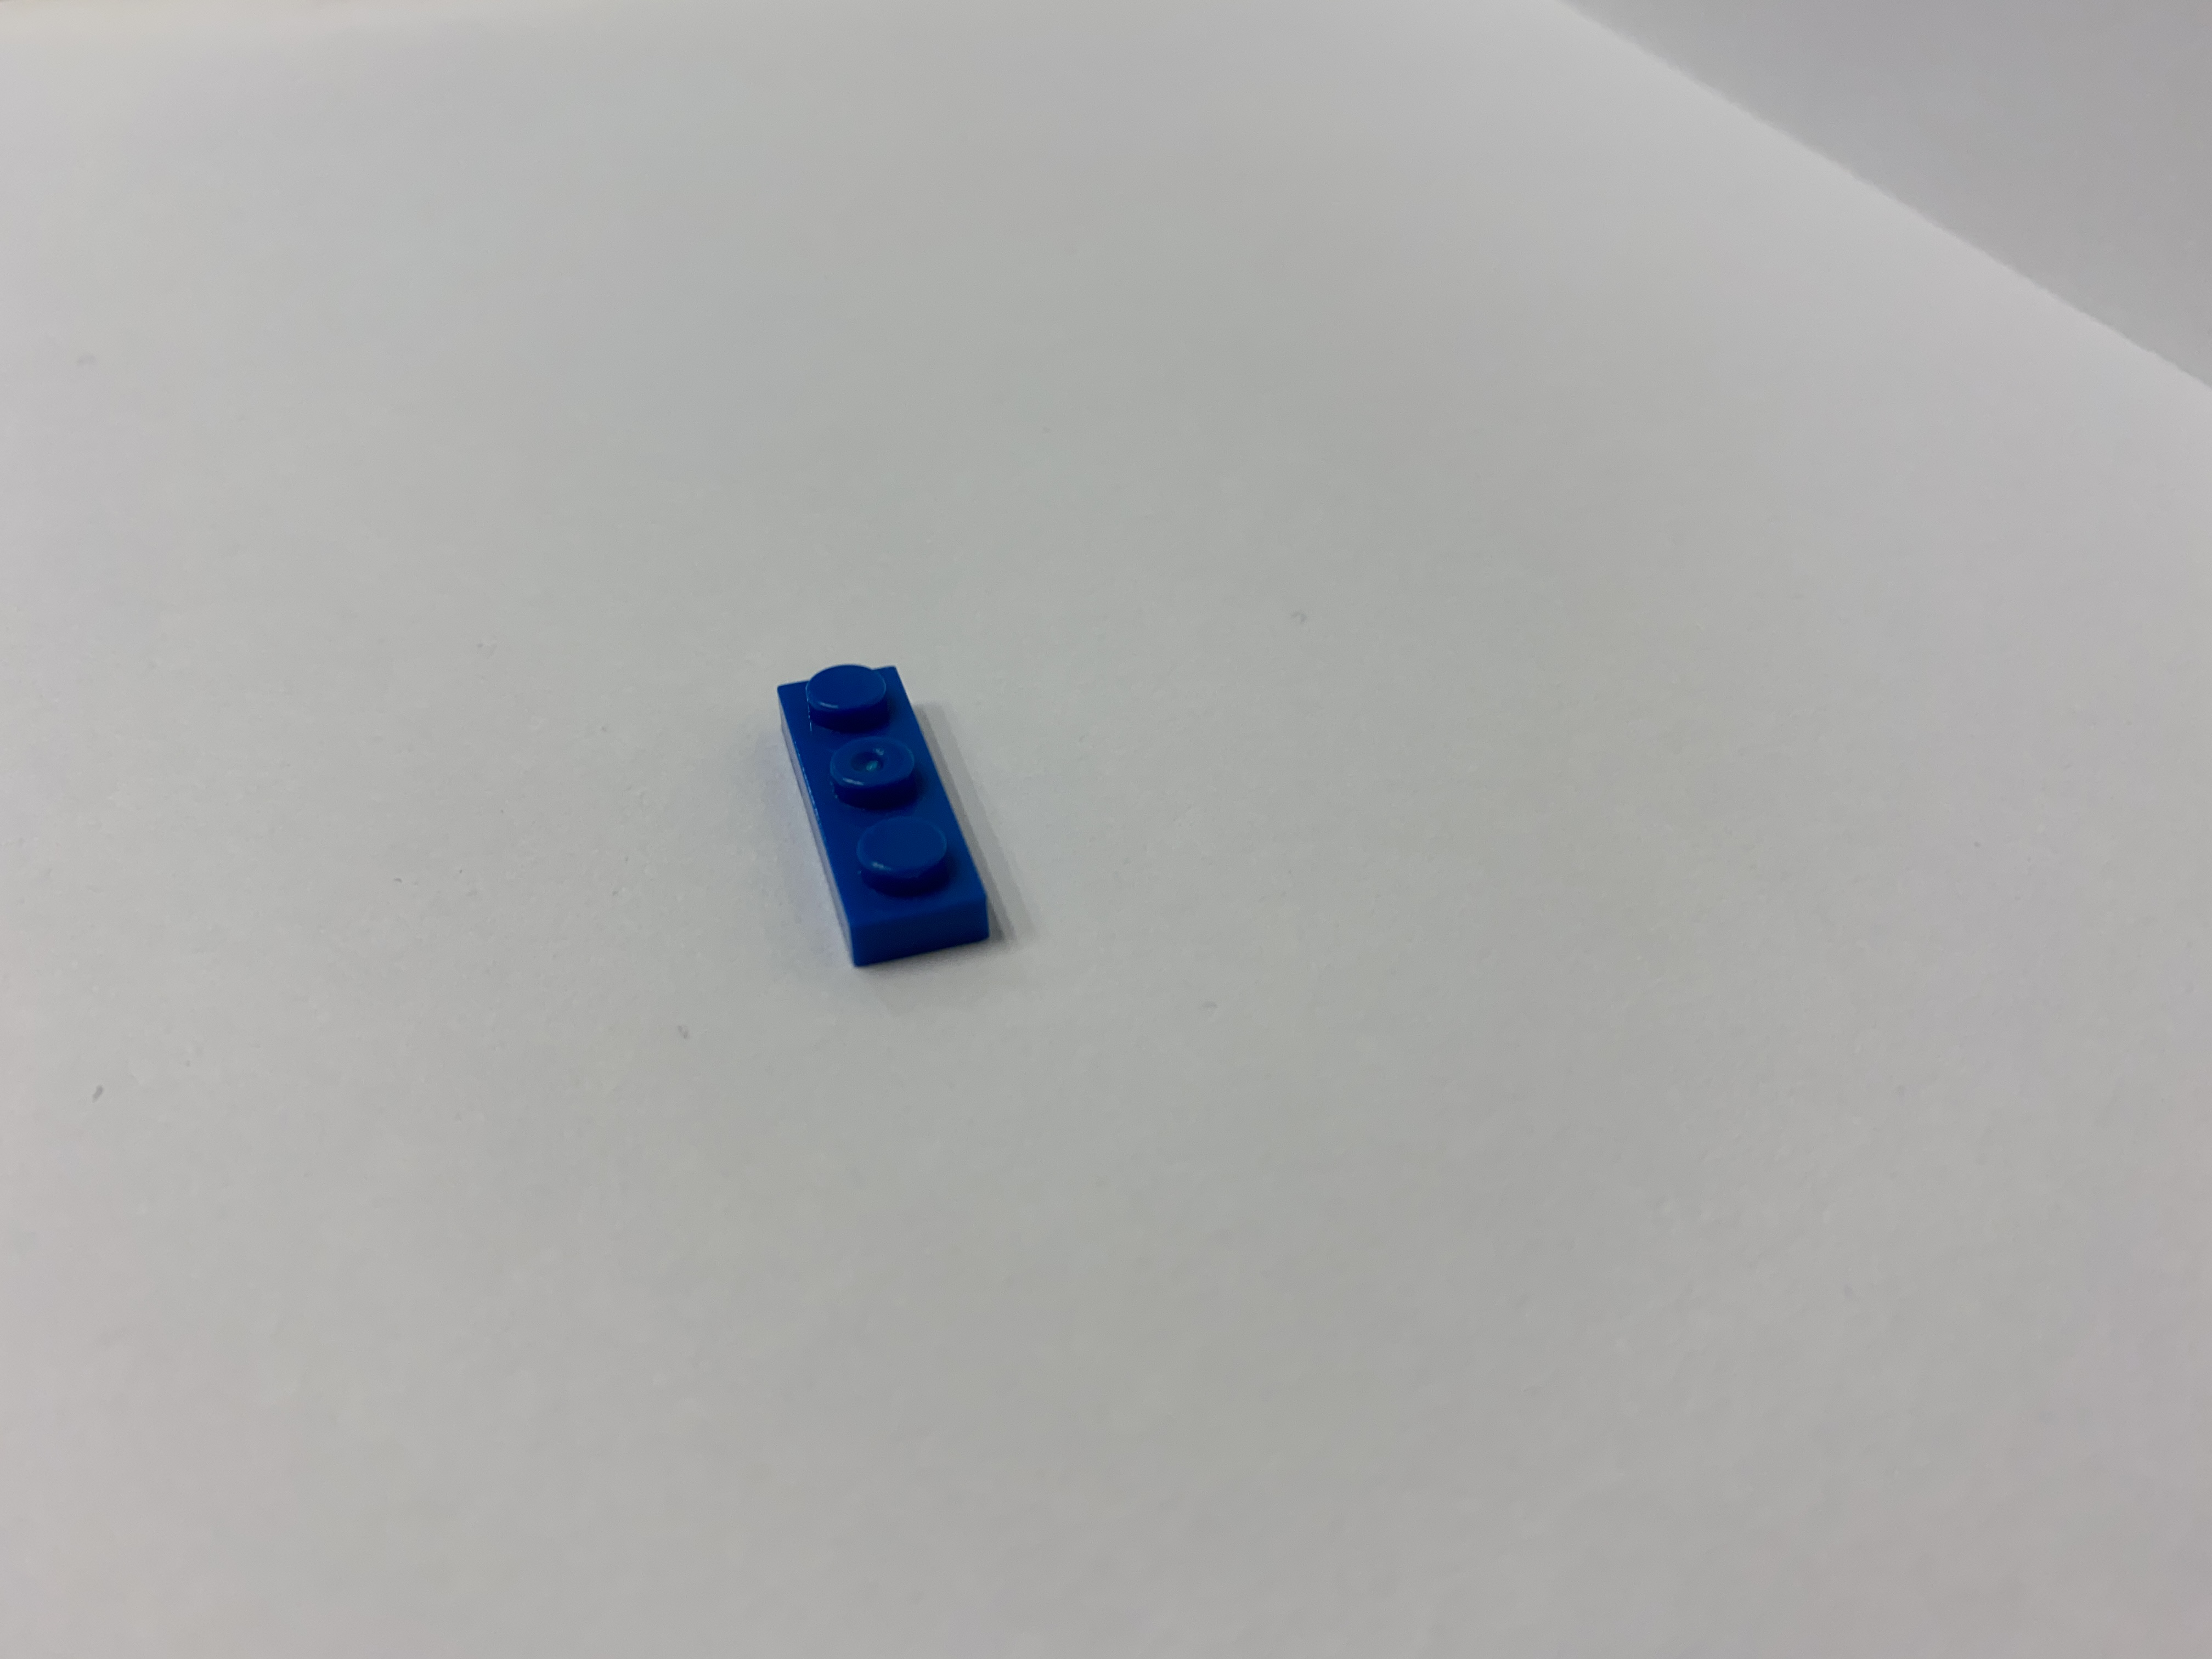car: (742, 657, 1008, 976)
